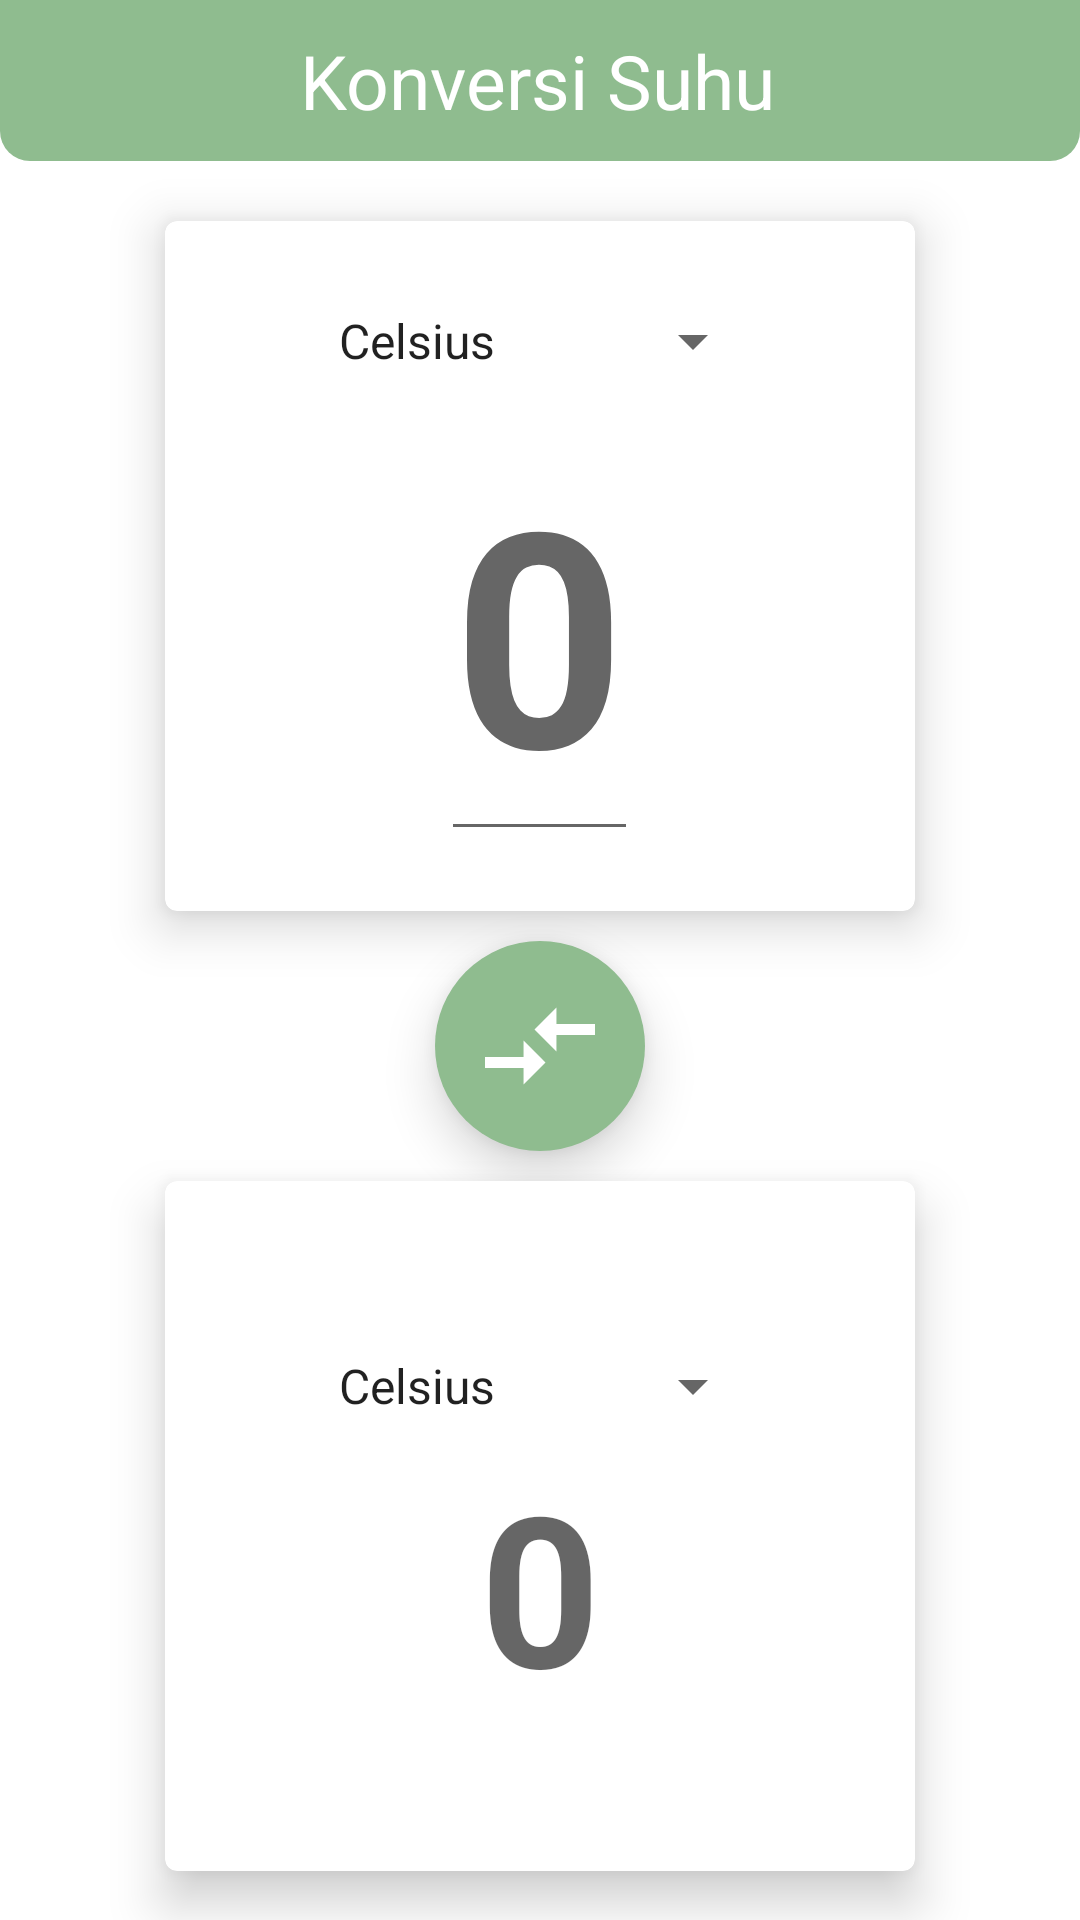

Icon click points for this 1080px x 1920px phone screenshot, format [x,y]:
compare arrows: [540,1046]
